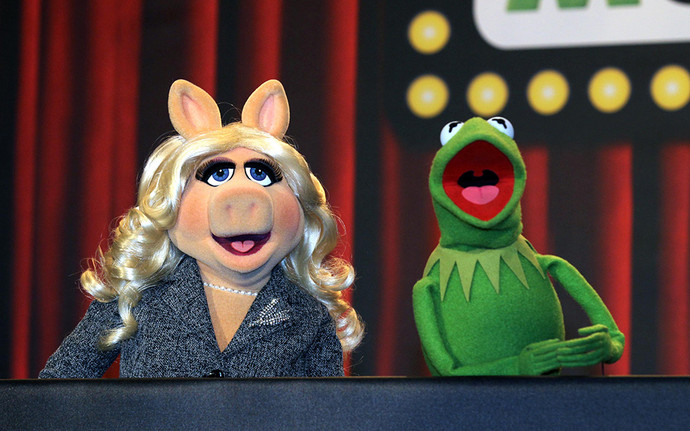kermit: (426, 114, 527, 248)
